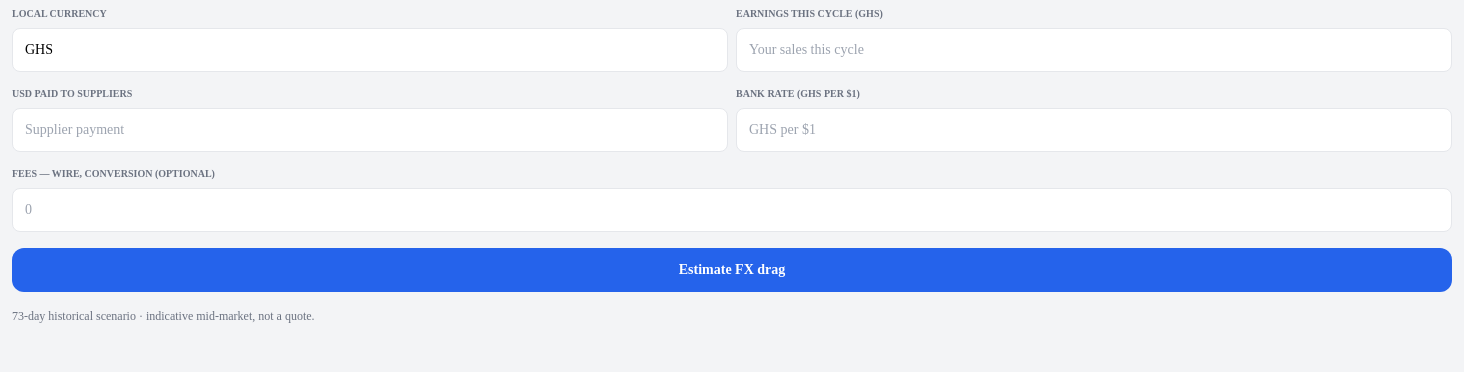
it: LastCycleDrag › invalid input shows an inline alert instead of silently no-oping
Click the button "Estimate FX drag": (732, 270) [12,248,1452,292]
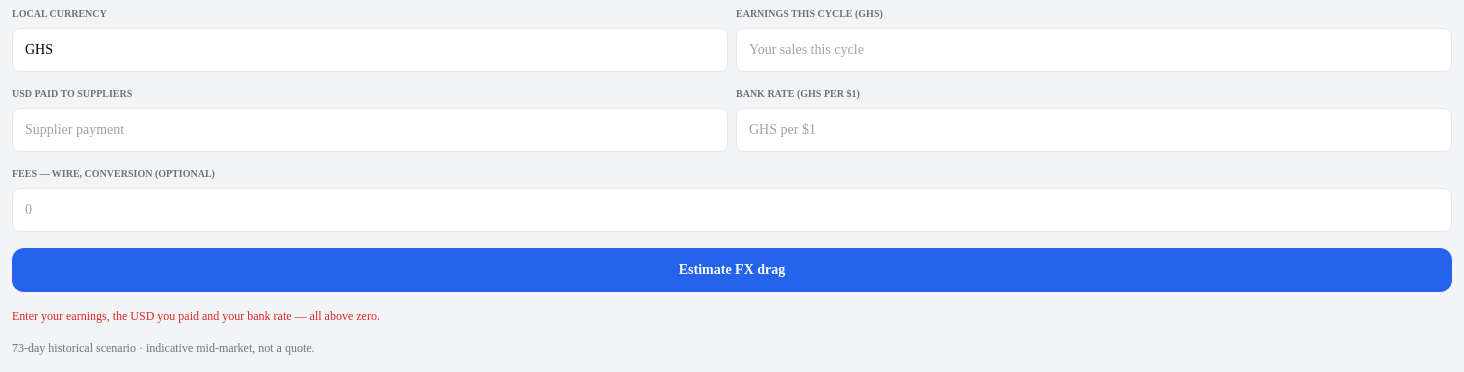
Result: the message reads "Enter your earnings, the USD you paid and your bank rate — all above zero." at [12,309,380,323]
